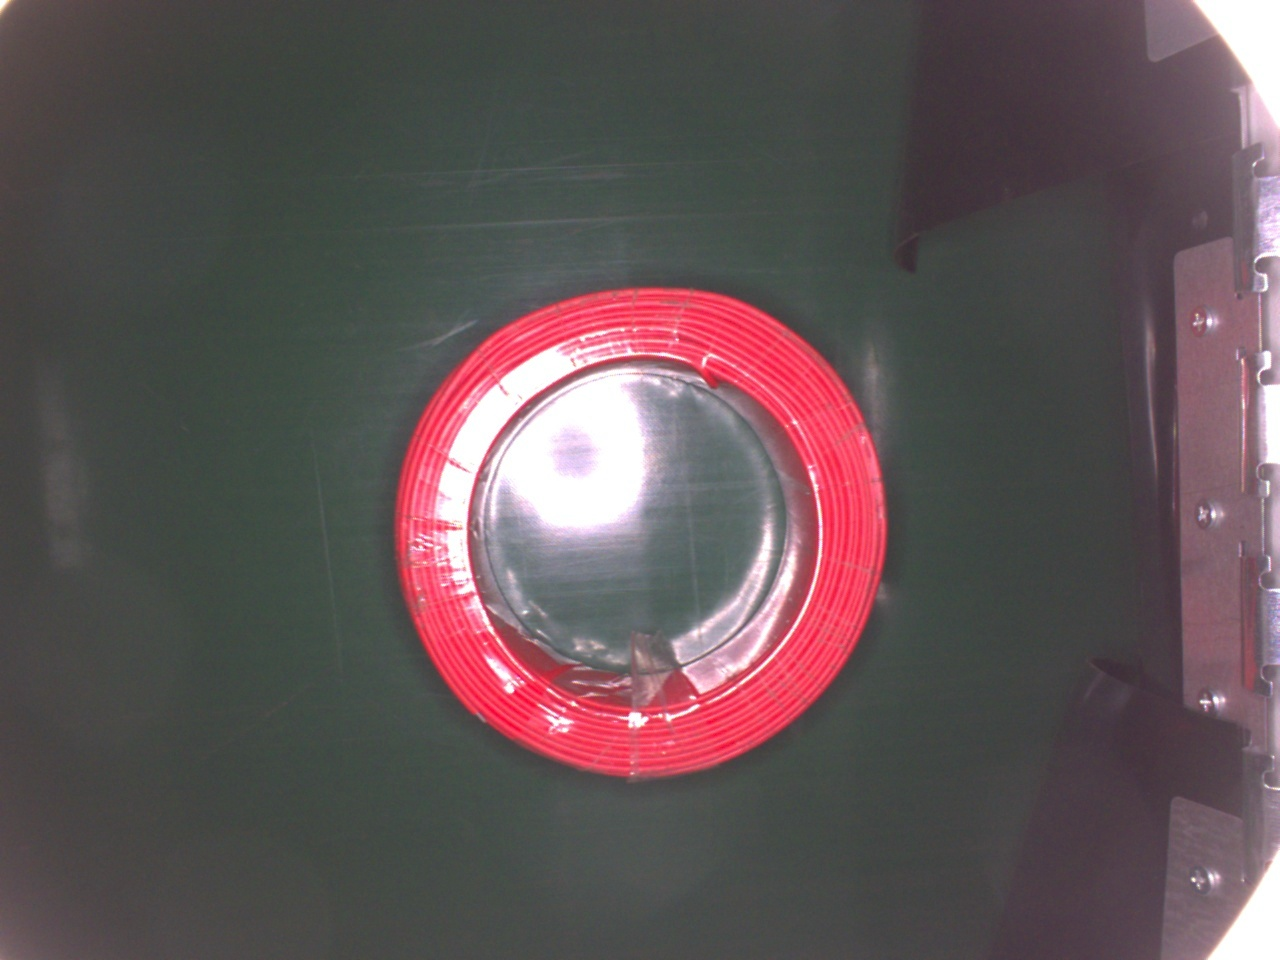red: (390, 280, 887, 787)
